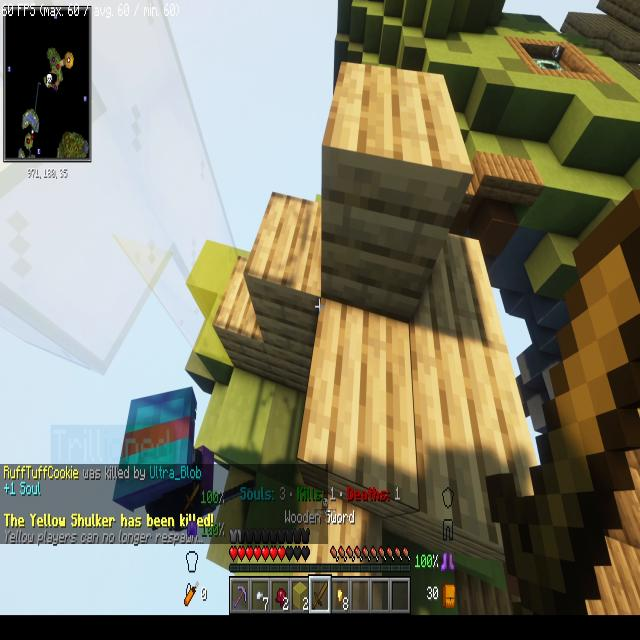Player: (111, 383, 216, 545)
